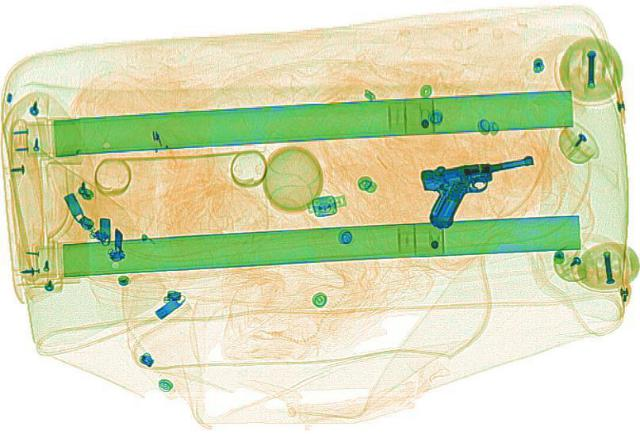Gun: (412, 155, 546, 227)
